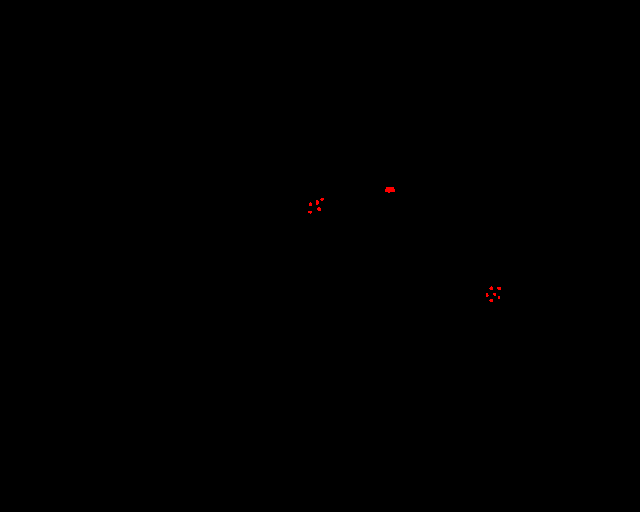Target: (385, 187, 395, 193), (317, 207, 321, 211), (489, 286, 493, 290), (316, 200, 319, 205), (320, 198, 324, 201), (309, 202, 312, 206), (308, 211, 312, 214), (497, 287, 501, 290), (486, 293, 489, 297), (489, 299, 493, 302), (493, 293, 496, 296), (498, 296, 500, 299)
